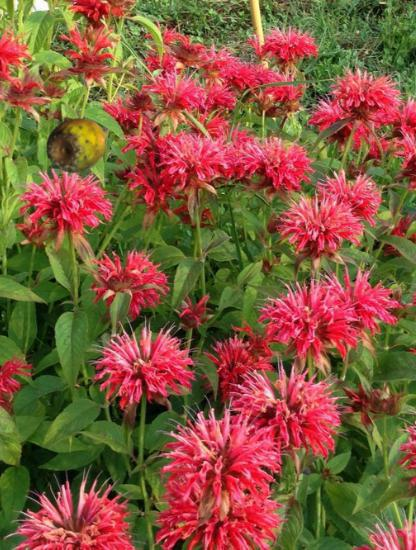Cactus: (44, 109, 112, 177)
